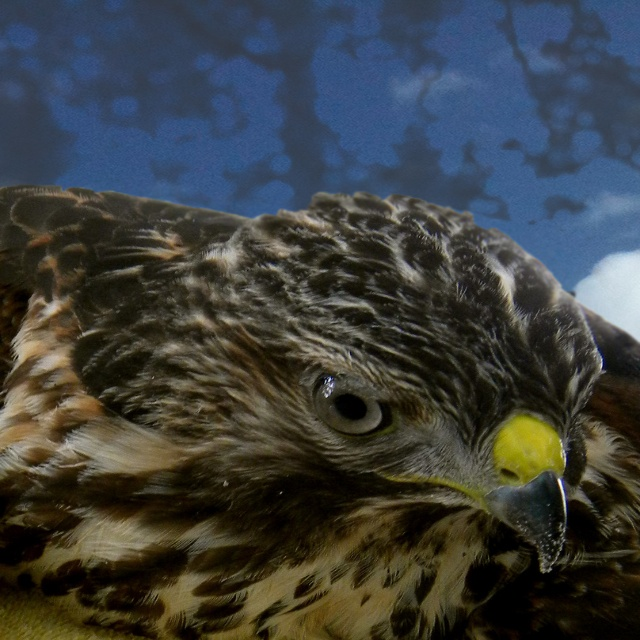Canary: (0, 183, 639, 640)
